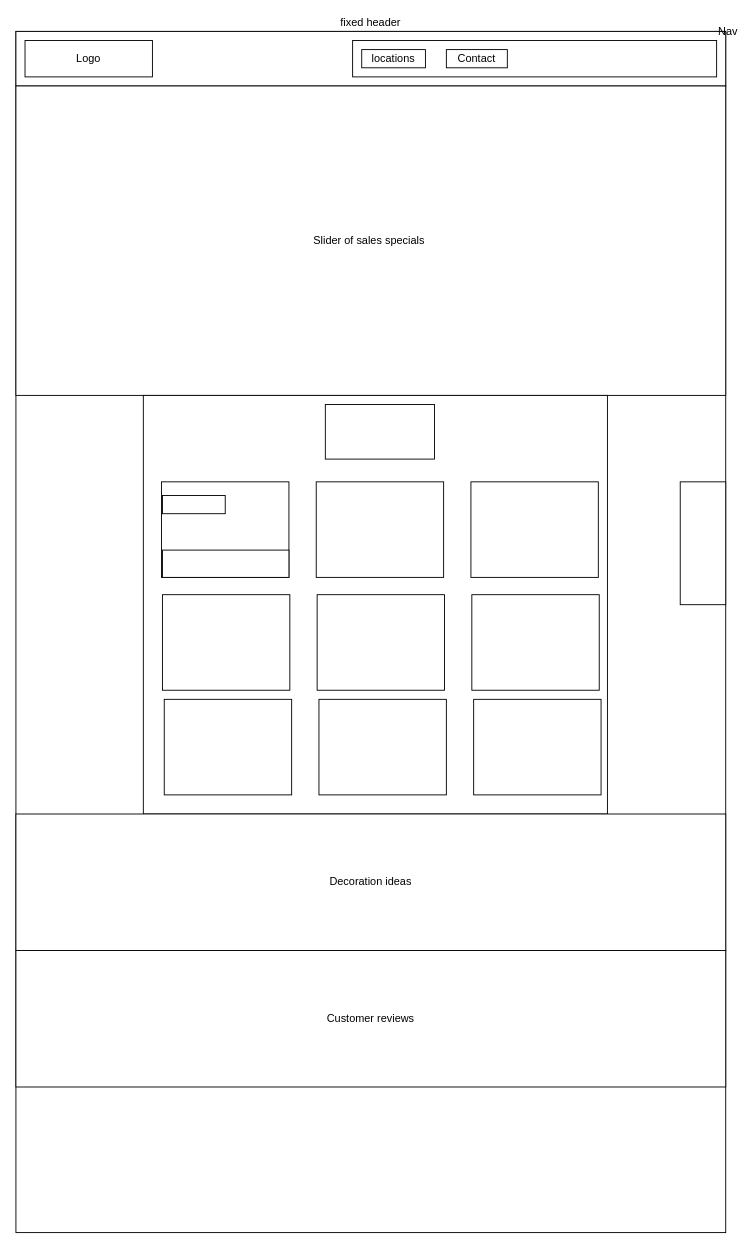
Some shapes in this 753 by 1249 pixel diagram are drawn without their labels. The centre of each missing label's shape, as x and y in pixels:
"Feedback" belongs at (702,543).
"Name" belongs at (225,563).
"Sale" belongs at (193,504).
"Shop by category" belongs at (379,431).
